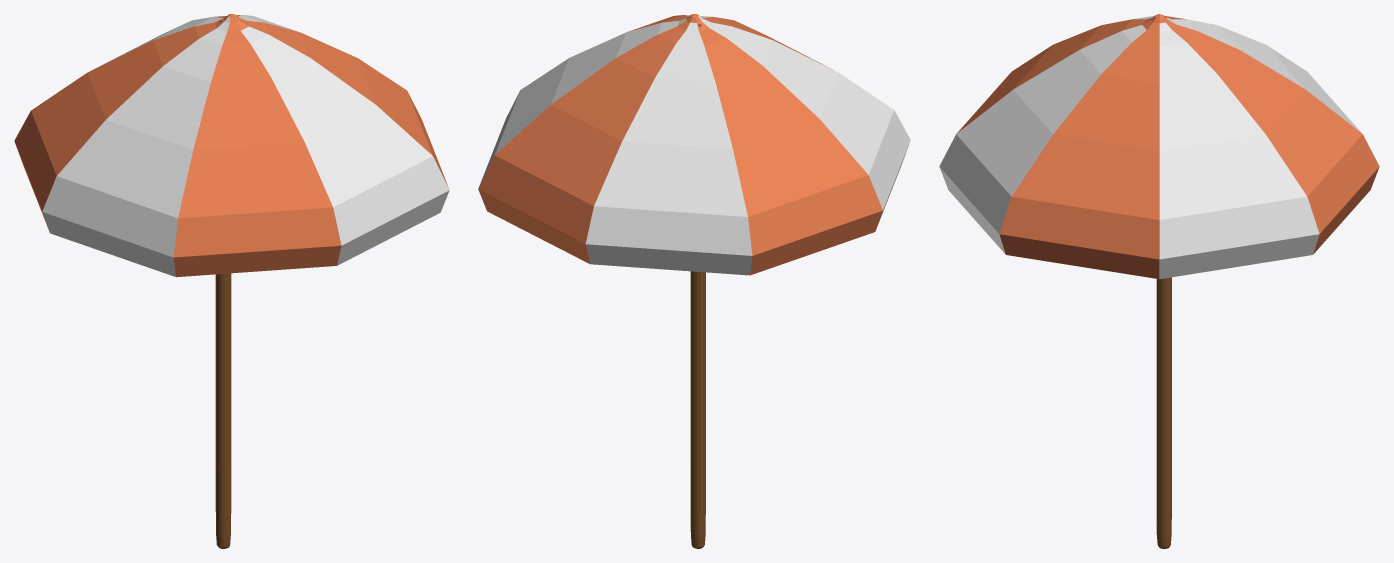
Rendered from umb1.fbx.
3 views of the same model, side by side, from view 1: azimuth 30°, elevation 25°; view 2: azimuth 150°, elevation 25°; view 3: azimuth 270°, elevation 25° (orthographic).
Visible parts, largest first — view 1: Cube.002, Cube.003; view 2: Cube.002, Cube.003; view 3: Cube.002, Cube.003.
Part boxes in pixels (left/top/right/bottom): Cube.002: left=14, top=14, right=449, bottom=277; Cube.003: left=215, top=20, right=231, bottom=548; Cube.002: left=478, top=14, right=910, bottom=275; Cube.003: left=690, top=24, right=705, bottom=548; Cube.002: left=939, top=14, right=1379, bottom=279; Cube.003: left=1156, top=277, right=1171, bottom=548.
Bounding box in the file's own units: 2268 × 3047 × 2268.
